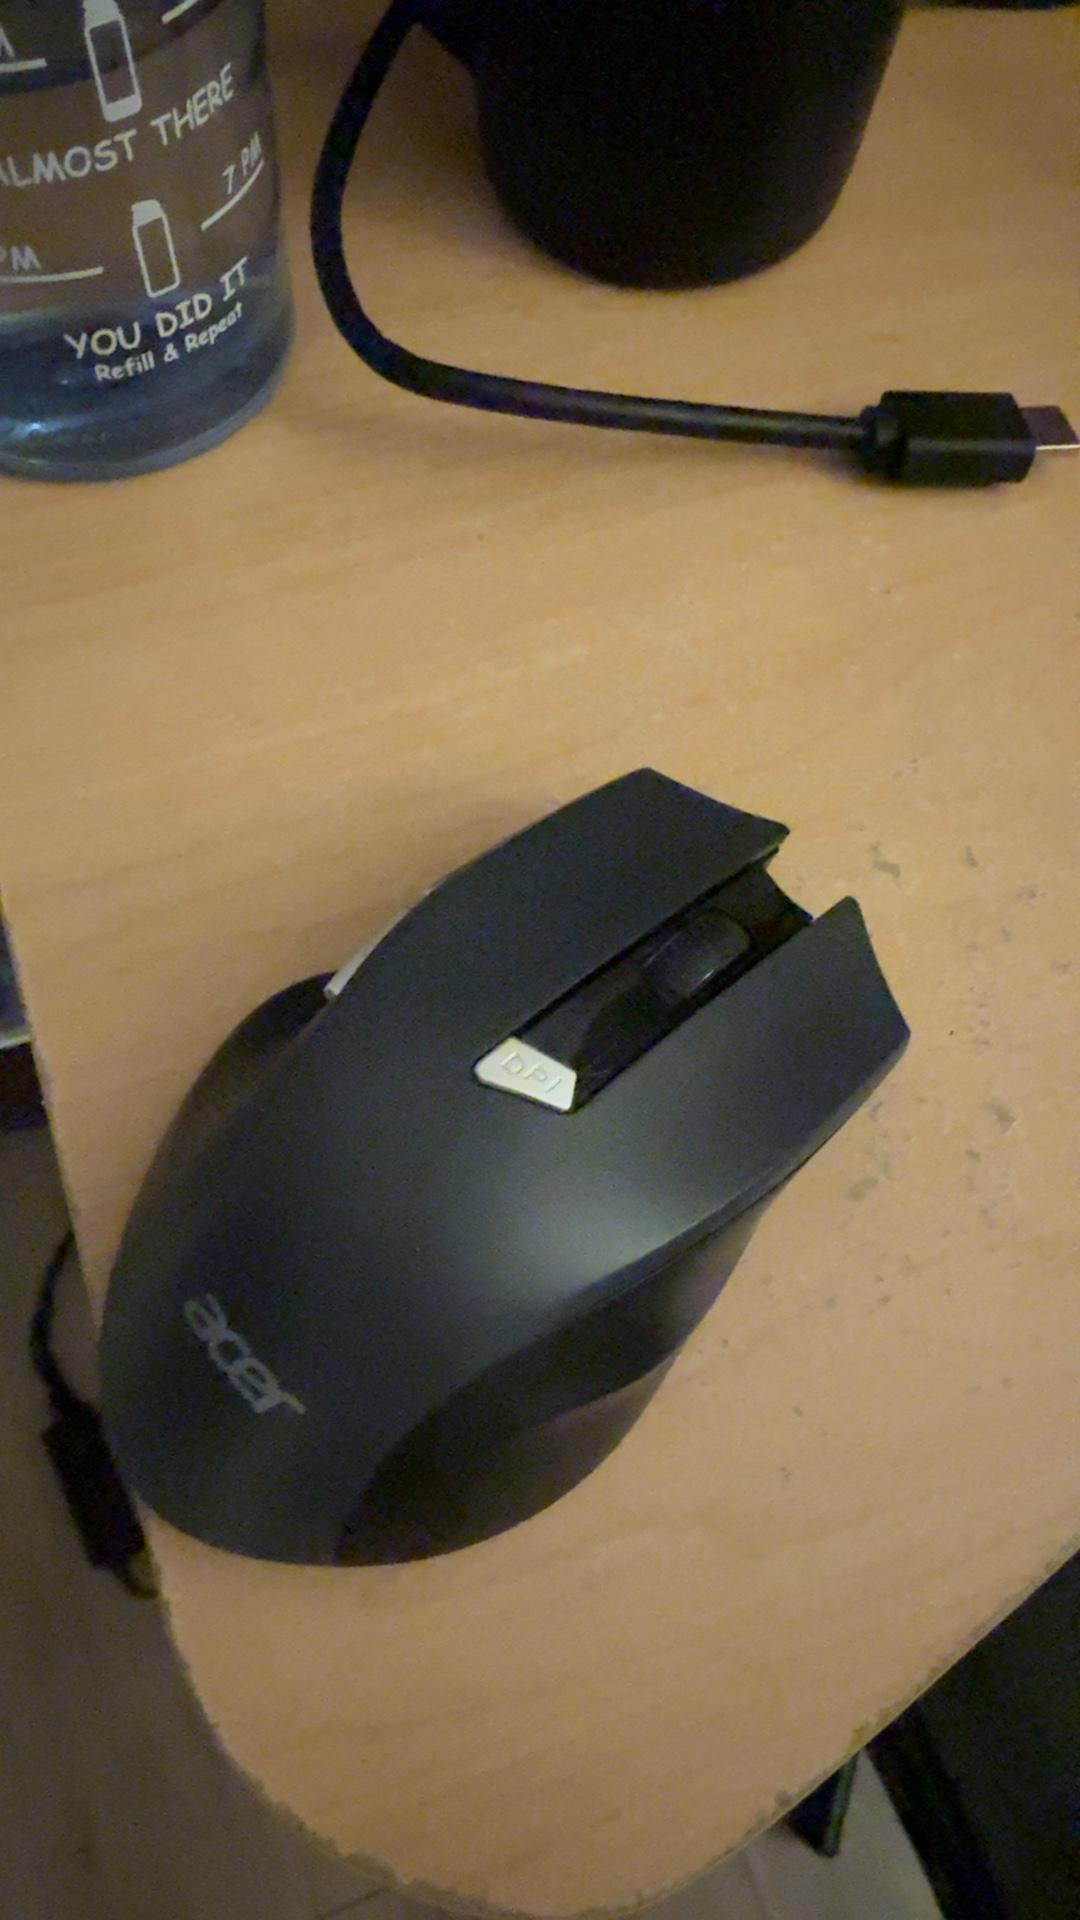Mouse: (65, 703, 924, 1571)
